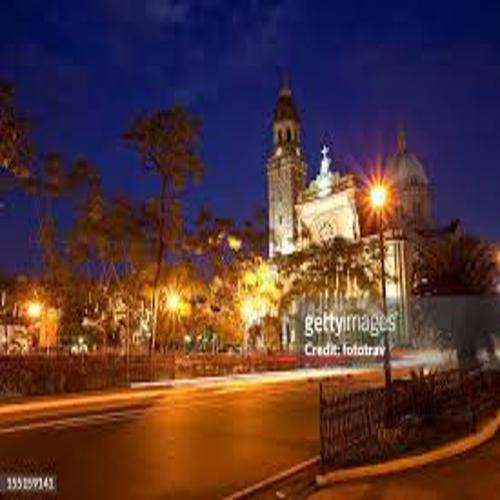Manila Cathedral Church: (231, 70, 444, 322)
